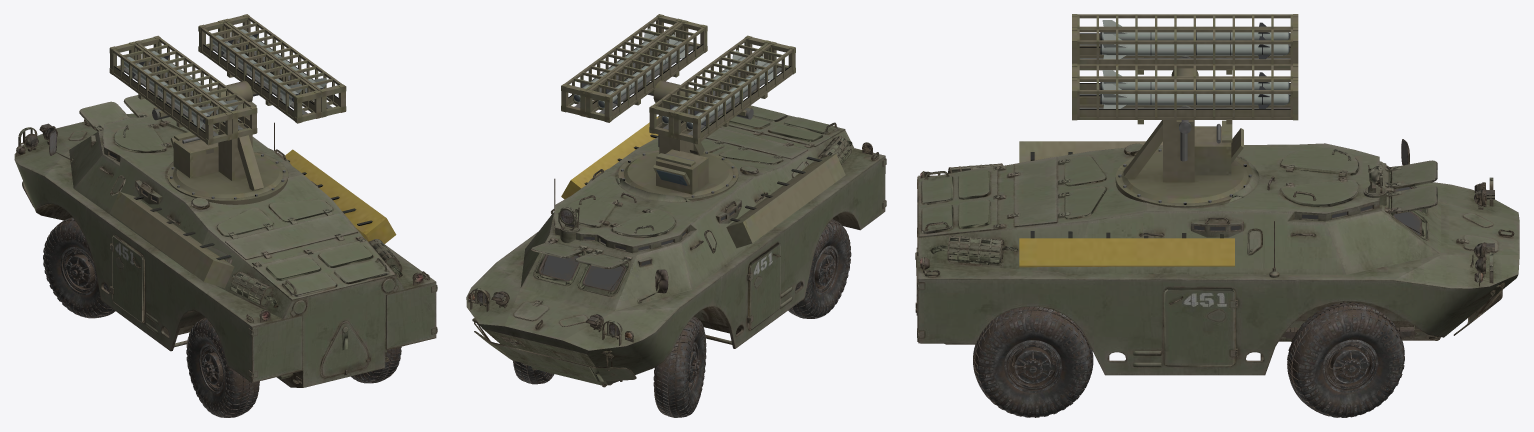
The model's file is strela1.glb.
3 renders of one model, left to right at view 1: azimuth 30°, elevation 25°; view 2: azimuth 150°, elevation 25°; view 3: azimuth 270°, elevation 25°, orthographic. The views are drawn at different scales.
Visible parts, largest first — view 1: V_strela1__Body_2, V_strela1__Gun_2, V_strela1__Body_3, V_strela1__Body_4, V_strela1__Turret_1, V_strela1__Body_1, V_strela1__W02_1, V_strela1__W04_1, V_strela1__Gun_1, V_strela1__W03_1; view 2: V_strela1__Body_2, V_strela1__Gun_2, V_strela1__Body_3, V_strela1__Body_4, V_strela1__Turret_1, V_strela1__Body_1, V_strela1__W02_1, V_strela1__W04_1, V_strela1__Gun_1, V_strela1__Body_5, V_strela1__W01_1; view 3: V_strela1__Body_2, V_strela1__Body_3, V_strela1__Gun_2, V_strela1__W01_1, V_strela1__W03_1, V_strela1__Body_4, V_strela1__Turret_1, V_strela1__Body_1, V_strela1__Gun_1, V_strela1__Body_5.
Boxes of the visible parts, <box> form: V_strela1__Body_2: <box>14,113,436,387</box>; V_strela1__Gun_2: <box>109,14,346,145</box>; V_strela1__Body_3: <box>16,98,437,383</box>; V_strela1__Body_4: <box>16,95,437,383</box>; V_strela1__Turret_1: <box>167,81,288,204</box>; V_strela1__Body_1: <box>110,149,396,288</box>; V_strela1__W02_1: <box>43,217,115,318</box>; V_strela1__W04_1: <box>186,317,259,417</box>; V_strela1__Gun_1: <box>124,29,328,128</box>; V_strela1__W03_1: <box>351,346,401,383</box>; V_strela1__Body_2: <box>466,115,885,387</box>; V_strela1__Gun_2: <box>561,14,795,144</box>; V_strela1__Body_3: <box>468,103,886,385</box>; V_strela1__Body_4: <box>468,118,886,385</box>; V_strela1__Turret_1: <box>618,80,738,200</box>; V_strela1__Body_1: <box>561,116,845,248</box>; V_strela1__W02_1: <box>653,316,706,417</box>; V_strela1__W04_1: <box>788,219,851,318</box>; V_strela1__Gun_1: <box>573,28,777,129</box>; V_strela1__Body_5: <box>540,150,739,290</box>; V_strela1__W01_1: <box>512,360,554,384</box>; V_strela1__Body_2: <box>918,143,1519,375</box>; V_strela1__Body_3: <box>915,139,1514,366</box>; V_strela1__Gun_2: <box>1072,14,1298,133</box>; V_strela1__W01_1: <box>1287,302,1404,417</box>; V_strela1__W03_1: <box>973,306,1093,417</box>; V_strela1__Body_4: <box>915,140,1513,365</box>; V_strela1__Turret_1: <box>1115,68,1252,207</box>; V_strela1__Body_1: <box>1019,141,1234,267</box>; V_strela1__Gun_1: <box>1100,20,1289,108</box>; V_strela1__Body_5: <box>1194,187,1420,234</box>.
Size of the model in its own units: 6.86 by 9.48 by 16.09.
6 materials, 6 textured.
